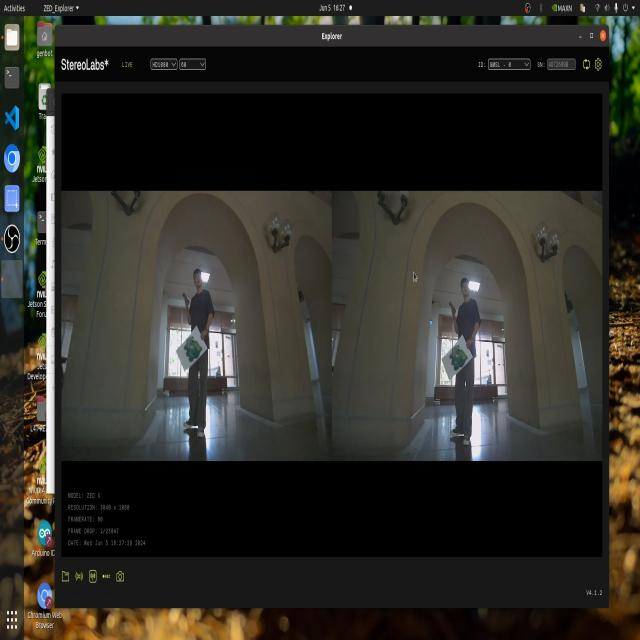green: (444, 336, 471, 379), (184, 334, 202, 365)
